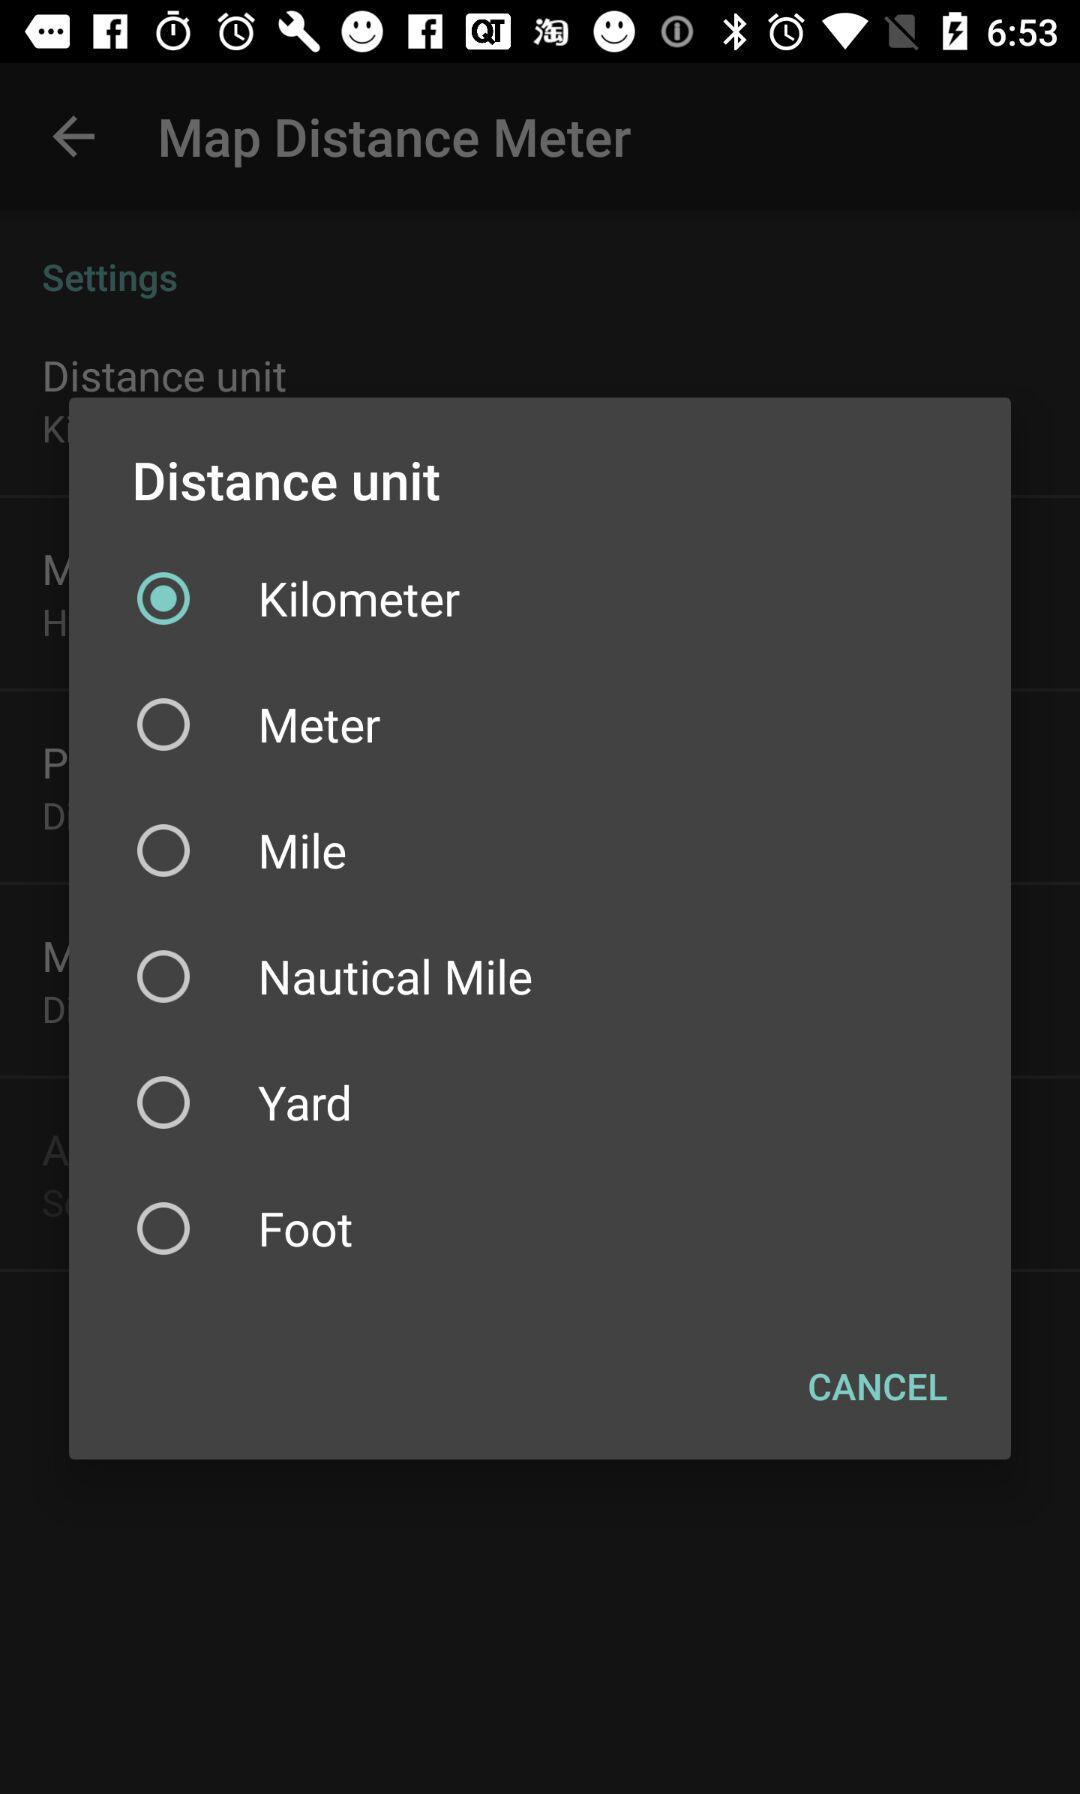CheckedTextView: (137, 950, 532, 1005), (137, 572, 460, 627), (137, 697, 380, 752), (137, 1202, 354, 1256), (137, 1076, 350, 1130), (137, 824, 346, 876)
Icon: (53, 117, 96, 160)
Modal: (69, 399, 1011, 1460)
Text: (160, 118, 632, 170), (136, 463, 441, 504), (263, 959, 532, 997), (46, 361, 287, 393), (263, 582, 460, 618), (44, 264, 178, 301), (263, 709, 380, 745), (808, 1374, 948, 1402), (259, 1085, 350, 1123), (263, 1214, 354, 1248), (263, 833, 346, 870)
UpperTaskBar: (1, 1, 1080, 64)
